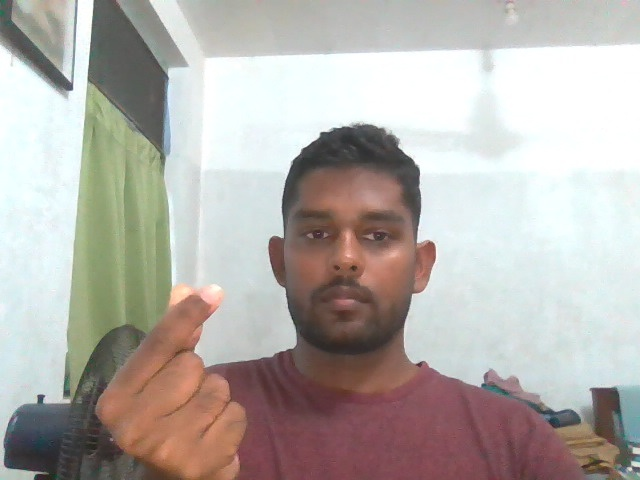iloveyou: (71, 276, 256, 480)
